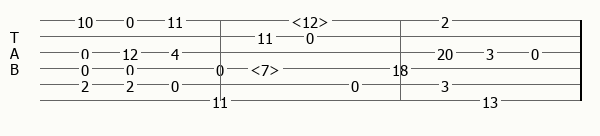0: (81, 45, 93, 60), (81, 61, 93, 76), (126, 61, 138, 76), (126, 13, 138, 28), (171, 77, 183, 92), (216, 61, 228, 76), (306, 29, 318, 44), (351, 77, 363, 92), (531, 45, 543, 60)
10: (77, 13, 97, 28)
11: (167, 13, 187, 28), (212, 93, 232, 108), (257, 29, 277, 44)
12: (122, 45, 142, 60)
13: (482, 93, 502, 108)
18: (392, 61, 412, 76)
2: (81, 77, 93, 92), (126, 77, 138, 92), (441, 13, 453, 28)
20: (437, 45, 457, 60)
3: (441, 77, 453, 92), (486, 45, 498, 60)
4: (171, 45, 183, 60)
harmonic: (291, 13, 333, 28), (250, 61, 284, 76)
